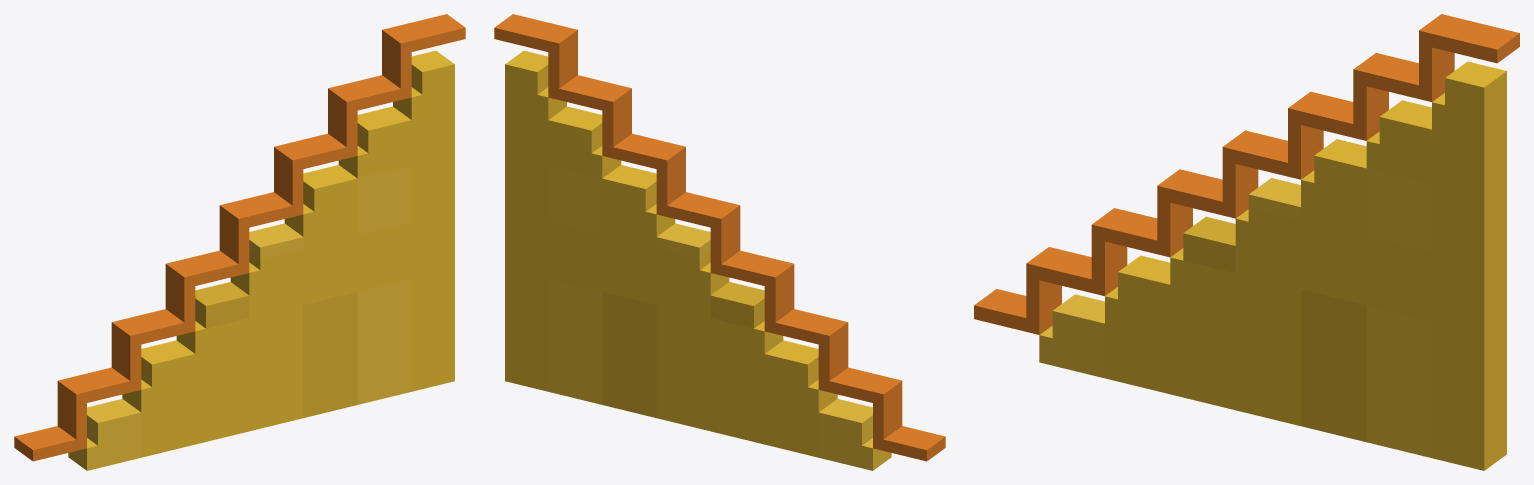
The model's file is ws_gable.glb.
3 renders of one model, left to right at view 1: azimuth 30°, elevation 25°; view 2: azimuth 150°, elevation 25°; view 3: azimuth 330°, elevation 25°, orthographic. The views are drawn at different scales.
Visible parts, largest first — view 1: gable; view 2: gable; view 3: gable.
Boxes of the visible parts, x1,y1,x2,y2 form: gable: (14, 14, 465, 470); gable: (494, 14, 945, 470); gable: (974, 14, 1519, 470).
Bounding box in the file's own units: 4 × 3.1 × 0.3.
